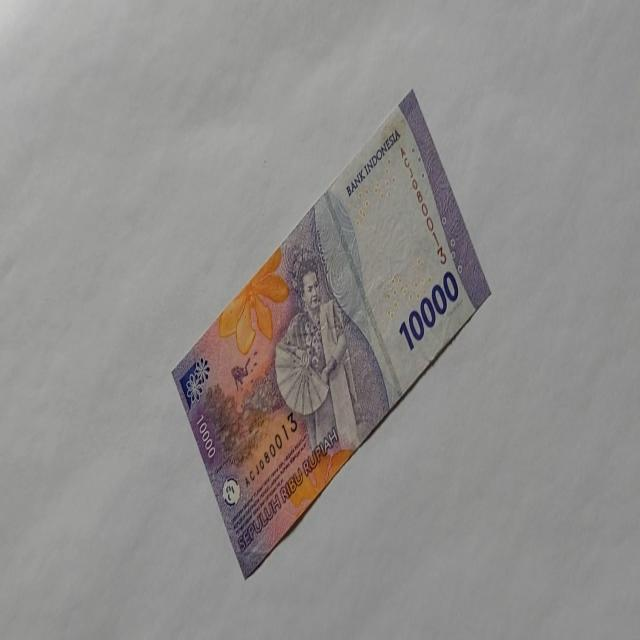sepuluh ribu rupiah: (170, 87, 492, 580), (397, 268, 459, 352), (344, 126, 402, 199)
